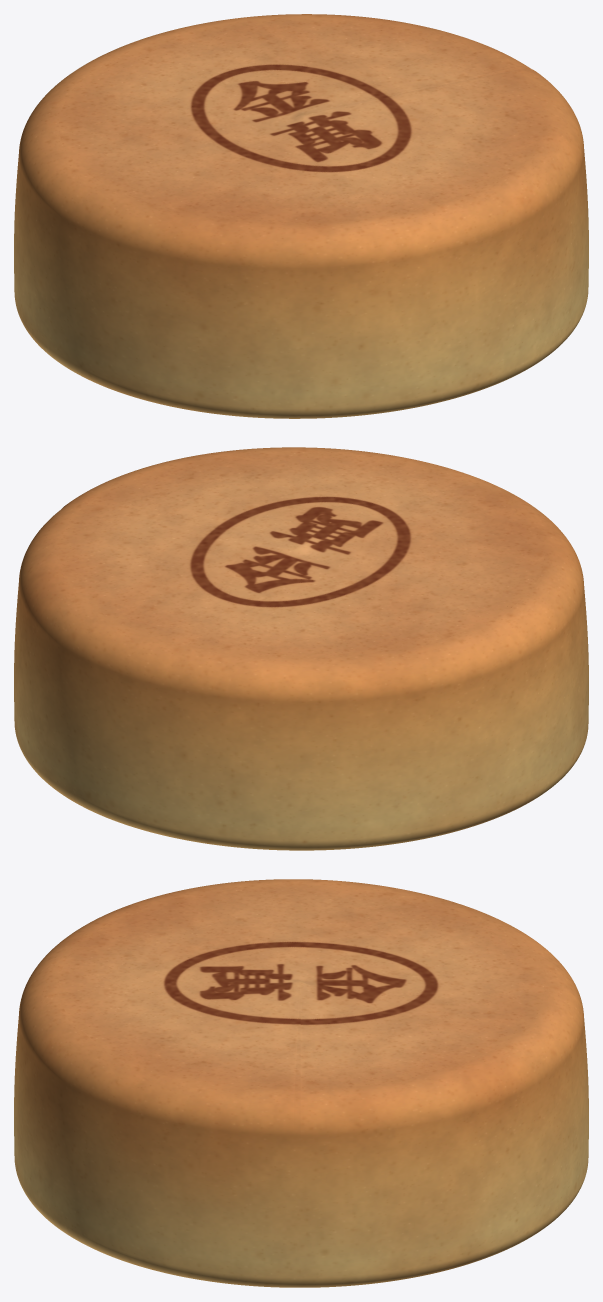
Rendered from kinman.glb.
The picture shows the model from 3 angles, top to bottom: view 1: azimuth 30°, elevation 25°; view 2: azimuth 150°, elevation 25°; view 3: azimuth 270°, elevation 25°; orthographic projection.
Parts seen in each view (by area): view 1: KM_Whole; view 2: KM_Whole; view 3: KM_Whole, KM_HalfB.
Part boxes in pixels (left/top/right/bottom): KM_Whole: left=14, top=14, right=588, bottom=418; KM_Whole: left=14, top=447, right=588, bottom=850; KM_Whole: left=14, top=879, right=588, bottom=1287; KM_HalfB: left=293, top=987, right=300, bottom=1146.
Bounding box in the file's own units: 0.0464 × 0.0167 × 0.0458.
Materials: 1 (1 with a texture image).
